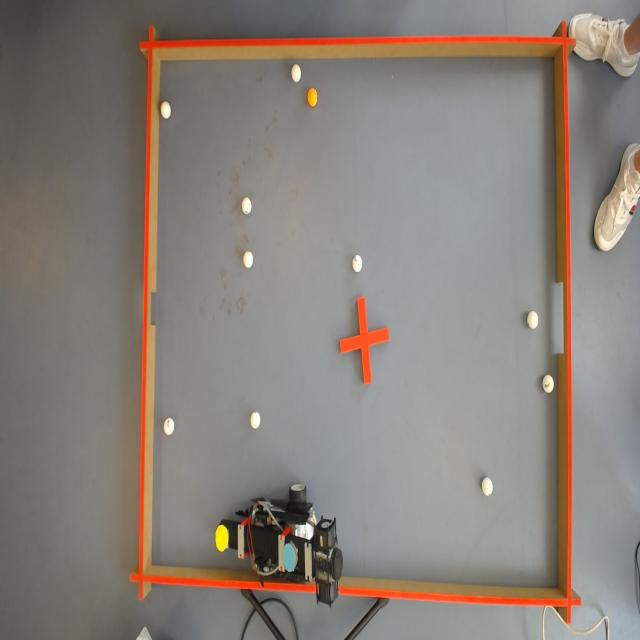orange: (306, 90, 318, 107)
robot: (210, 474, 345, 606)
robot-front: (215, 527, 233, 550)
robot-rear: (281, 541, 300, 567)
white: (481, 477, 494, 497), (242, 251, 255, 269), (526, 311, 539, 329), (161, 100, 172, 119), (250, 411, 262, 428), (292, 64, 303, 82), (352, 253, 362, 272), (543, 373, 554, 390), (164, 417, 175, 433), (242, 198, 252, 214)
